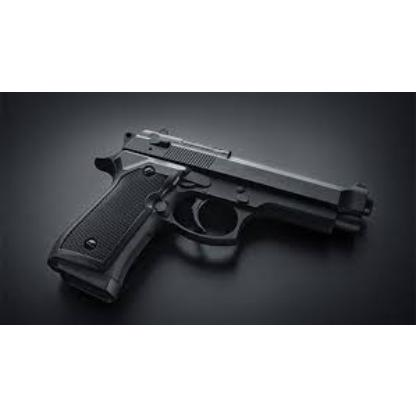gun: (42, 114, 376, 302)
